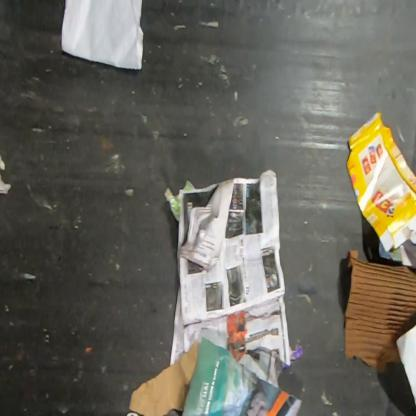cardboard: (346, 111, 415, 256), (343, 248, 415, 376), (127, 340, 199, 415)
soft_plastic: (0, 153, 11, 195)
